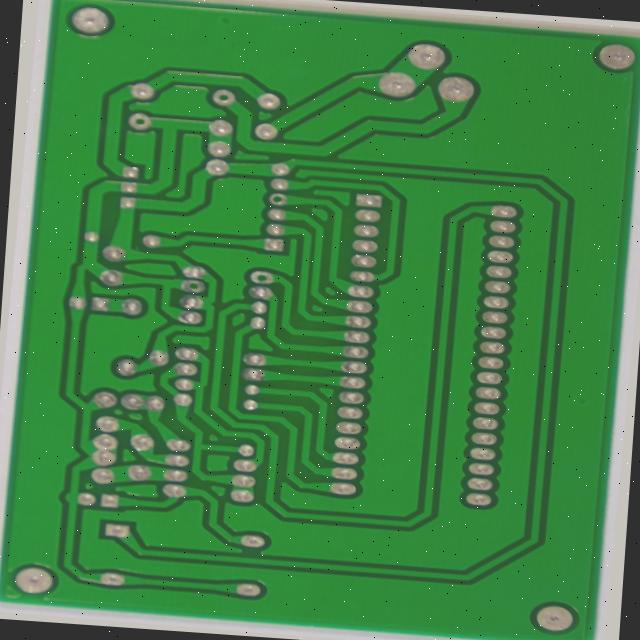missing_hole: (112, 109, 144, 131), (171, 277, 203, 297), (198, 86, 230, 105), (242, 267, 273, 286), (260, 187, 286, 208)
